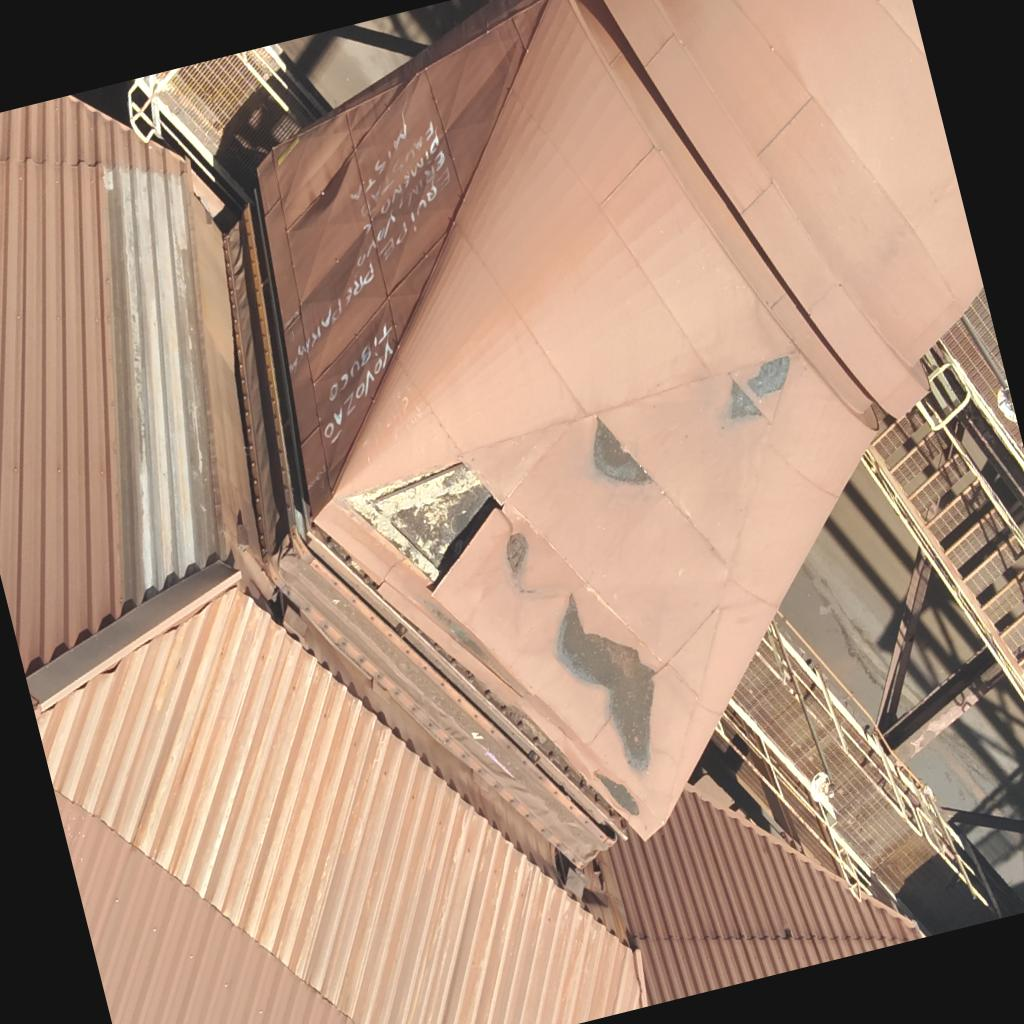Failures: (332, 446, 514, 602)
